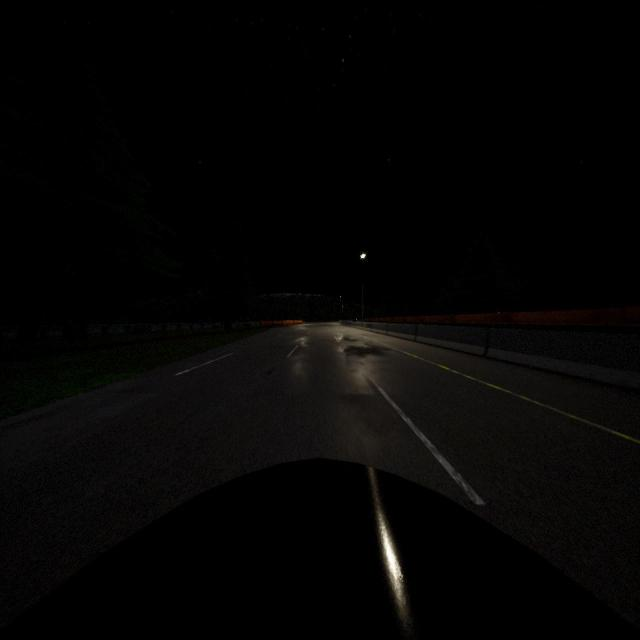Vehicle: (0, 463, 640, 640)
